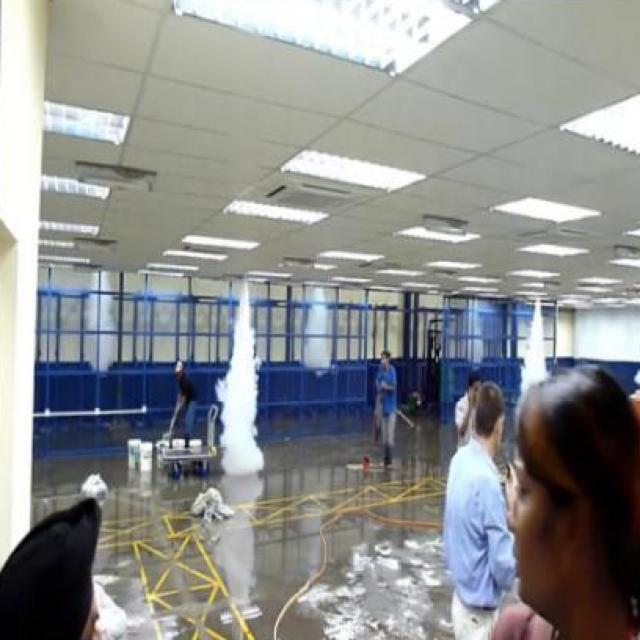fire: (216, 294, 270, 484), (522, 314, 548, 386)
